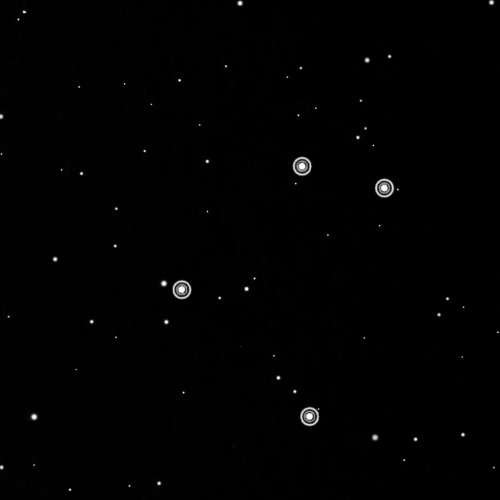coma_berenices: (162, 147, 409, 432)
